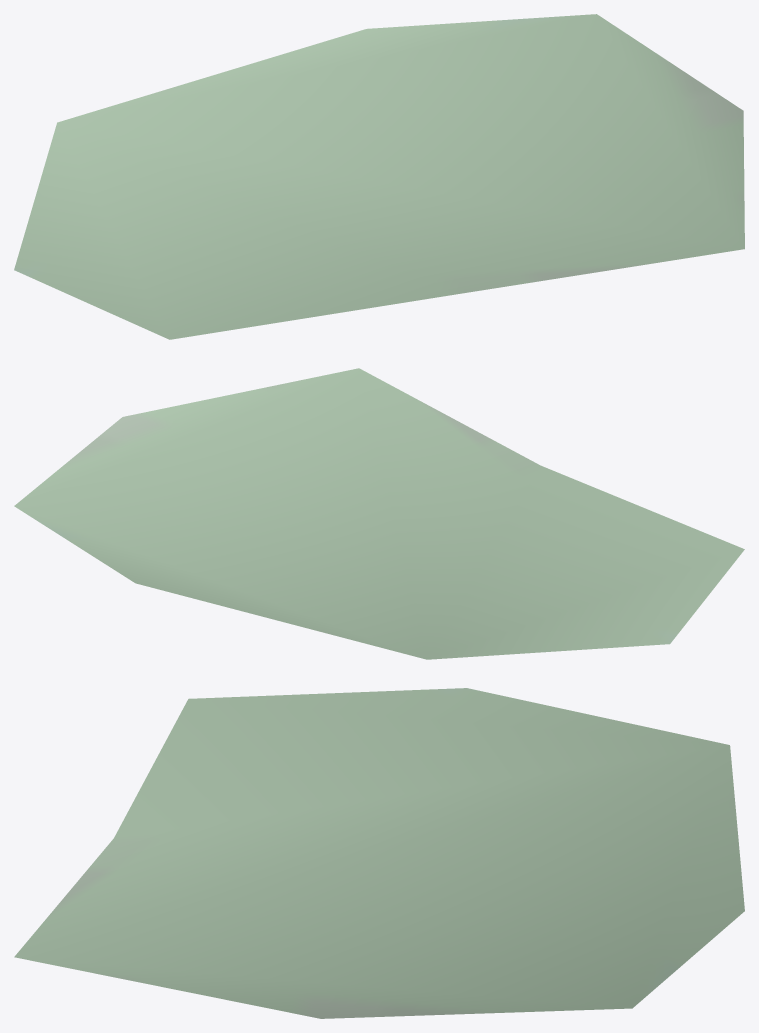
Rendered from TROLLHOLE02_HOLECAP29.fbx.
The picture shows the model from 3 angles, top to bottom: view 1: azimuth 30°, elevation 25°; view 2: azimuth 150°, elevation 25°; view 3: azimuth 270°, elevation 25°; orthographic projection. The views are drawn at different scales.
Visible parts, largest first — view 1: TROLLHOLE02_HOLECAP29; view 2: TROLLHOLE02_HOLECAP29; view 3: TROLLHOLE02_HOLECAP29.
Boxes of the visible parts, left/top/right/bottom form: TROLLHOLE02_HOLECAP29: left=14, top=14, right=744, bottom=339; TROLLHOLE02_HOLECAP29: left=14, top=368, right=744, bottom=659; TROLLHOLE02_HOLECAP29: left=14, top=688, right=744, bottom=1018.
Size of the model in its own units: 23026 by 1475 by 18699.
1 material, 1 textured.
